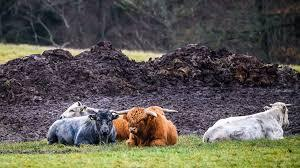cow: (203, 102, 291, 143), (46, 110, 119, 147), (122, 105, 182, 149), (59, 101, 116, 118)
